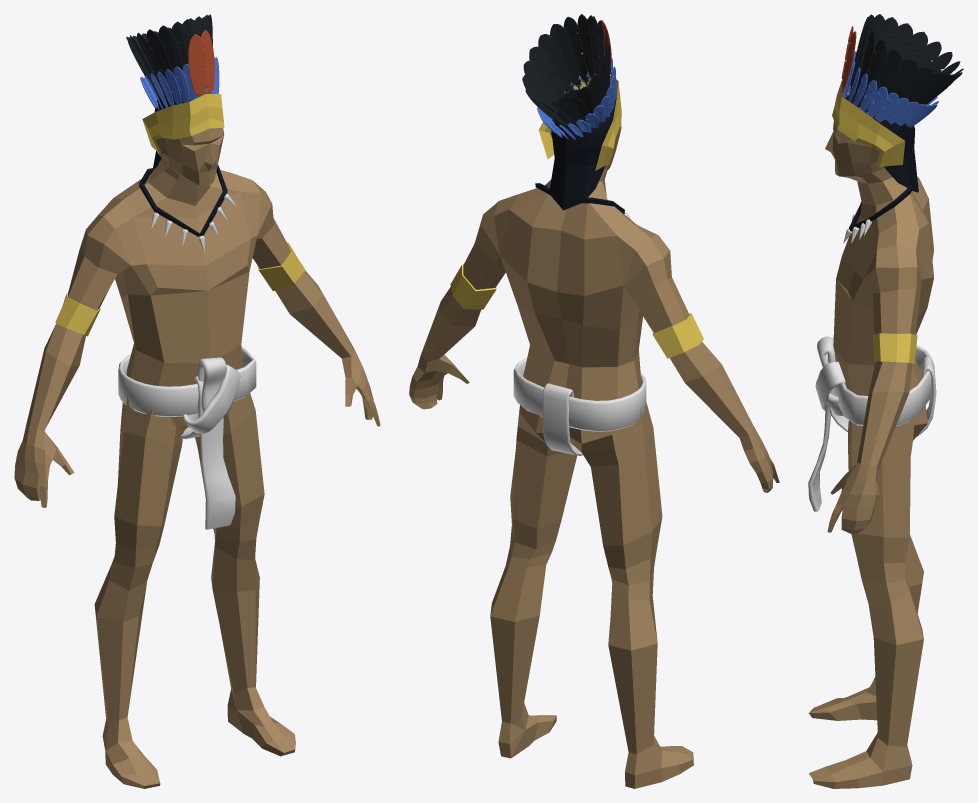
The model's file is tribu1.fbx.
The picture shows the model from 3 angles, left to right: view 1: azimuth 30°, elevation 25°; view 2: azimuth 150°, elevation 25°; view 3: azimuth 270°, elevation 25°; orthographic projection.
Parts seen in each view (by area): view 1: male.010, BézierCurve.003, Cube.005, male.014, male.012, Cube.004, male.013, Cube.006; view 2: male.010, Cube.005, BézierCurve.003, male.011, male.012, Cube.004, male.014; view 3: male.010, Cube.005, BézierCurve.003, Cube.004, male.014, male.011, male.012, male.013, Cube.007.
Boxes of the visible parts, x1,y1,x2,y2 form: male.010: (14,128,380,788); BézierCurve.003: (118,347,256,529); Cube.005: (126,14,212,99); male.014: (142,94,224,157); male.012: (55,242,305,336); Cube.004: (140,57,219,109); male.013: (139,164,227,236); Cube.006: (188,34,207,96); male.010: (409,125,779,788); Cube.005: (522,14,610,127); BézierCurve.003: (513,358,646,455); male.011: (549,89,616,210); male.012: (450,264,703,358); Cube.004: (537,54,616,139); male.014: (538,73,621,170); male.010: (809,121,933,788); Cube.005: (850,14,963,105); BézierCurve.003: (808,336,936,511); Cube.004: (841,51,938,127); male.014: (832,84,905,167); male.011: (844,93,918,192); male.012: (872,333,917,363); male.013: (849,188,911,231); Cube.007: (841,31,856,93).
Size of the model in its own units: 196 by 388 by 75.
